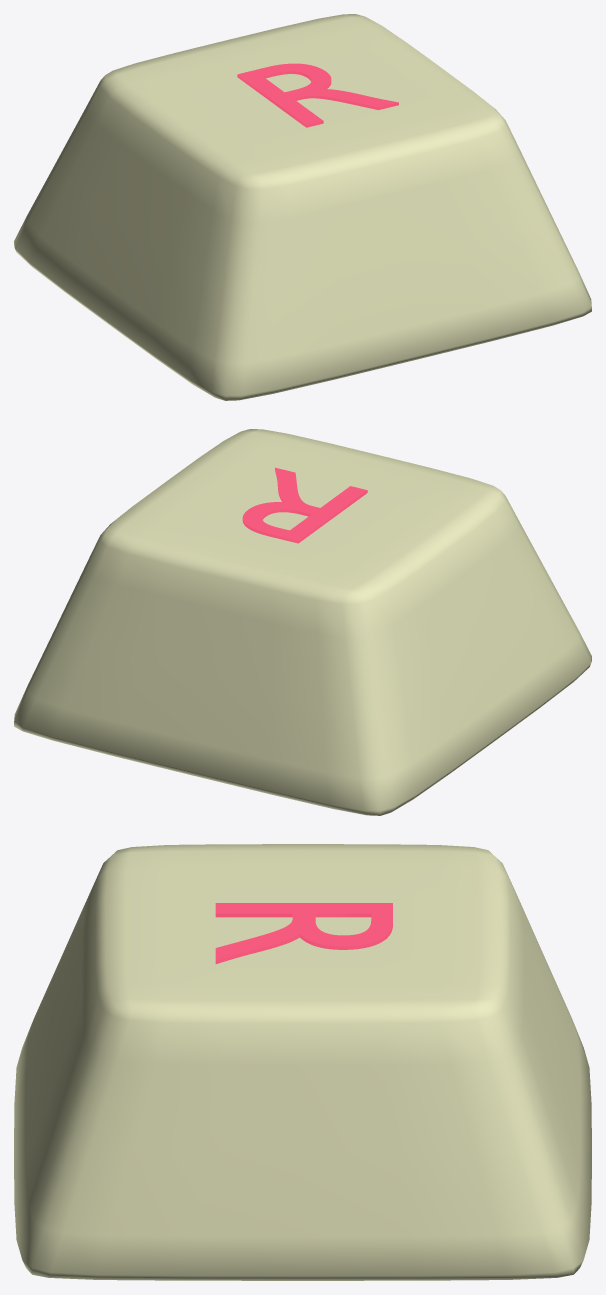
File: keyR.glb
3 renders of one model, top to bottom at view 1: azimuth 30°, elevation 25°; view 2: azimuth 150°, elevation 25°; view 3: azimuth 270°, elevation 25°, orthographic. The views are drawn at different scales.
Parts seen in each view (by area): view 1: Cube, Text; view 2: Cube, Text; view 3: Cube, Text.
Boxes of the visible parts, x1,y1,x2,y2 form: Cube: (14, 14, 591, 400); Text: (237, 63, 398, 127); Cube: (14, 429, 591, 815); Text: (242, 467, 367, 543); Cube: (14, 844, 591, 1280); Text: (215, 903, 392, 963).
Size of the model in its own units: 1.97 by 0.9057 by 1.97.
